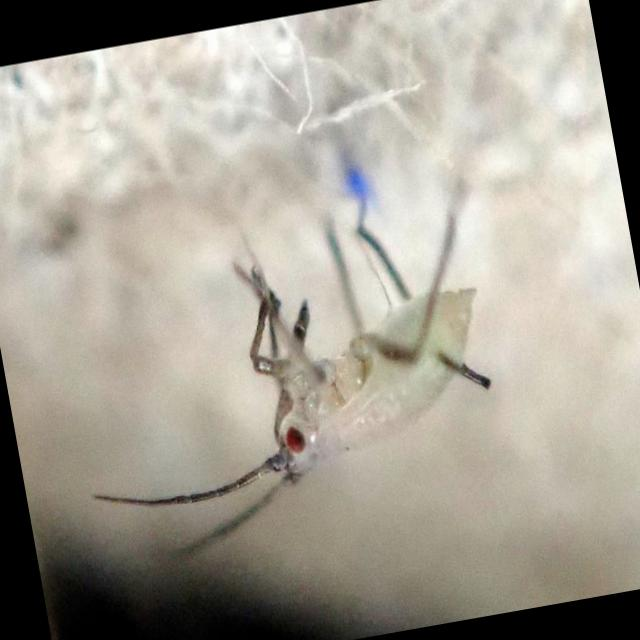Aphids: (53, 142, 539, 586)
